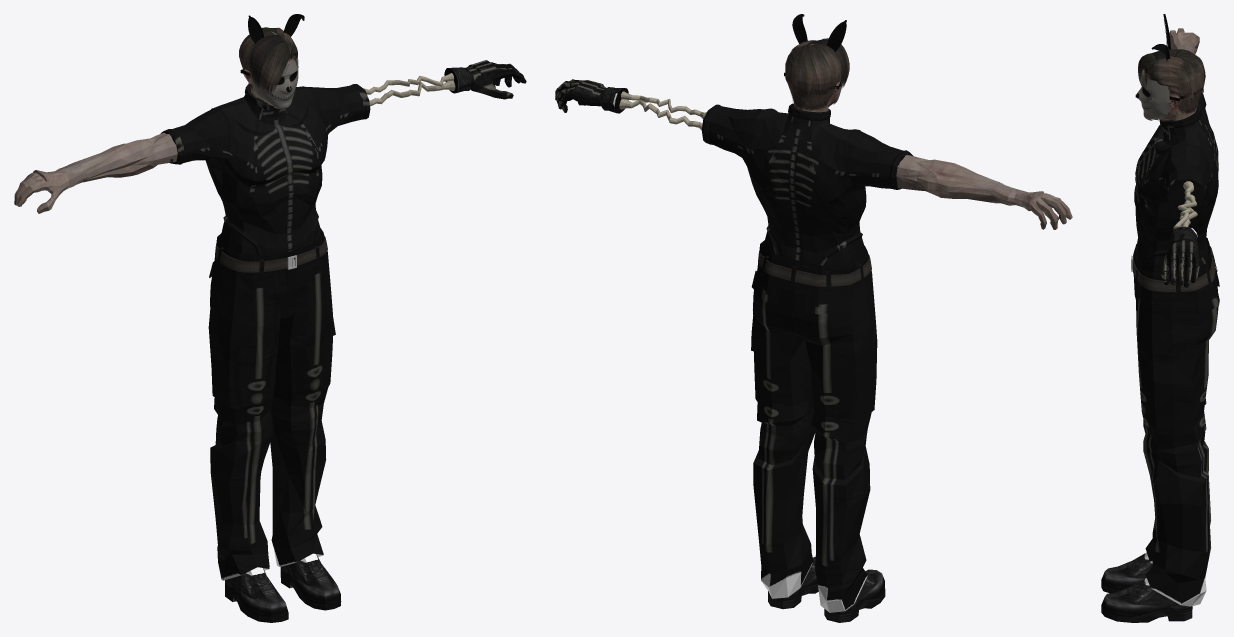
Rendered from leon_mod.glb.
3 renders of one model, left to right at view 1: azimuth 30°, elevation 25°; view 2: azimuth 150°, elevation 25°; view 3: azimuth 270°, elevation 25°, orthographic. The views are drawn at different scales.
Visible parts, largest first — view 1: pl08_000MATERIAL_001, pl08_000MATERIAL_007, pl08_000MATERIAL_003, pl08_000MATERIAL_006, pl08_014MATERIAL_000, pl08_000MATERIAL_000, pl08_005MATERIAL_032, pl08_000MATERIAL_002, pl08_016MATERIAL_001, pl08_005MATERIAL_027, pl08_005MATERIAL_028; view 2: pl08_000MATERIAL_001, pl08_000MATERIAL_007, pl08_000MATERIAL_006, pl08_000MATERIAL_003, pl08_014MATERIAL_000, pl08_000MATERIAL_000, pl08_000MATERIAL_002, pl08_016MATERIAL_001, pl08_005MATERIAL_031; view 3: pl08_000MATERIAL_001, pl08_000MATERIAL_007, pl08_000MATERIAL_003, pl08_005MATERIAL_032, pl08_000MATERIAL_000, pl08_016MATERIAL_001, pl08_016MATERIAL_000, pl08_000MATERIAL_002, pl08_014MATERIAL_000, pl08_002MATERIAL_000, pl08_005MATERIAL_013, pl08_005MATERIAL_031 (+6 smaller).
Boxes of the visible parts, x1,y1,x2,y2 form: pl08_000MATERIAL_001: (208,228,335,580); pl08_000MATERIAL_007: (160,83,370,255); pl08_000MATERIAL_003: (225,67,472,622); pl08_000MATERIAL_006: (76,132,177,182); pl08_014MATERIAL_000: (14,162,88,213); pl08_000MATERIAL_000: (215,236,327,272); pl08_005MATERIAL_032: (251,56,298,108); pl08_000MATERIAL_002: (363,73,455,106); pl08_016MATERIAL_001: (465,60,513,99); pl08_005MATERIAL_027: (260,42,290,94); pl08_005MATERIAL_028: (249,34,285,86); pl08_000MATERIAL_001: (751,240,877,612); pl08_000MATERIAL_007: (701,103,912,265); pl08_000MATERIAL_006: (896,155,1002,202); pl08_000MATERIAL_003: (599,87,885,622); pl08_014MATERIAL_000: (990,182,1072,229); pl08_000MATERIAL_000: (758,251,871,286); pl08_000MATERIAL_002: (619,91,706,129); pl08_016MATERIAL_001: (561,79,606,102); pl08_005MATERIAL_031: (784,14,846,90); pl08_000MATERIAL_001: (1133,237,1219,606); pl08_000MATERIAL_007: (1134,93,1218,272); pl08_000MATERIAL_003: (1101,226,1197,622); pl08_005MATERIAL_032: (1135,69,1169,120); pl08_000MATERIAL_000: (1131,246,1215,292); pl08_016MATERIAL_001: (1161,239,1199,274); pl08_016MATERIAL_000: (1161,255,1199,287); pl08_000MATERIAL_002: (1173,181,1197,230); pl08_014MATERIAL_000: (1169,28,1199,54); pl08_002MATERIAL_000: (1144,53,1196,120); pl08_005MATERIAL_013: (1147,66,1185,80); pl08_005MATERIAL_031: (1151,14,1195,101).
Size of the model in its own units: 17.54 by 19.25 by 3.6.
16 materials, 16 textured.
